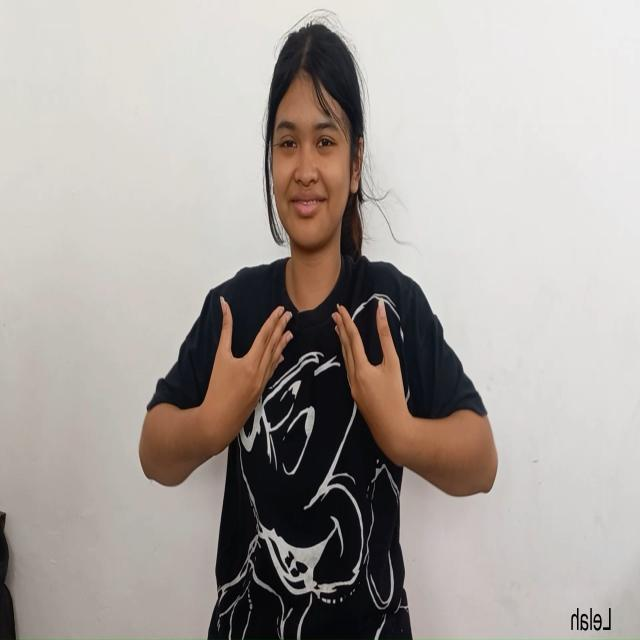Lelah -BISINDO-: (137, 293, 499, 501)
